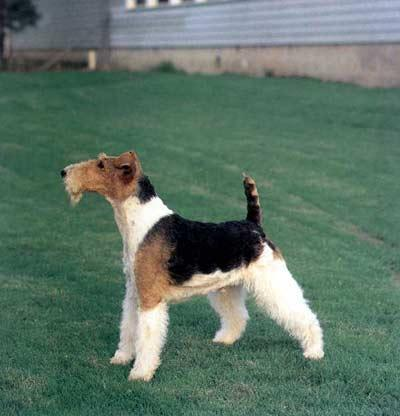wire-haired_fox_terrier: (56, 147, 325, 383)
